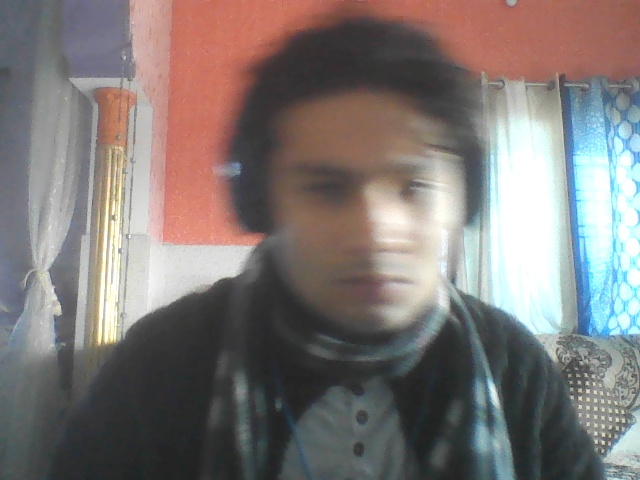real: (245, 17, 486, 358)
